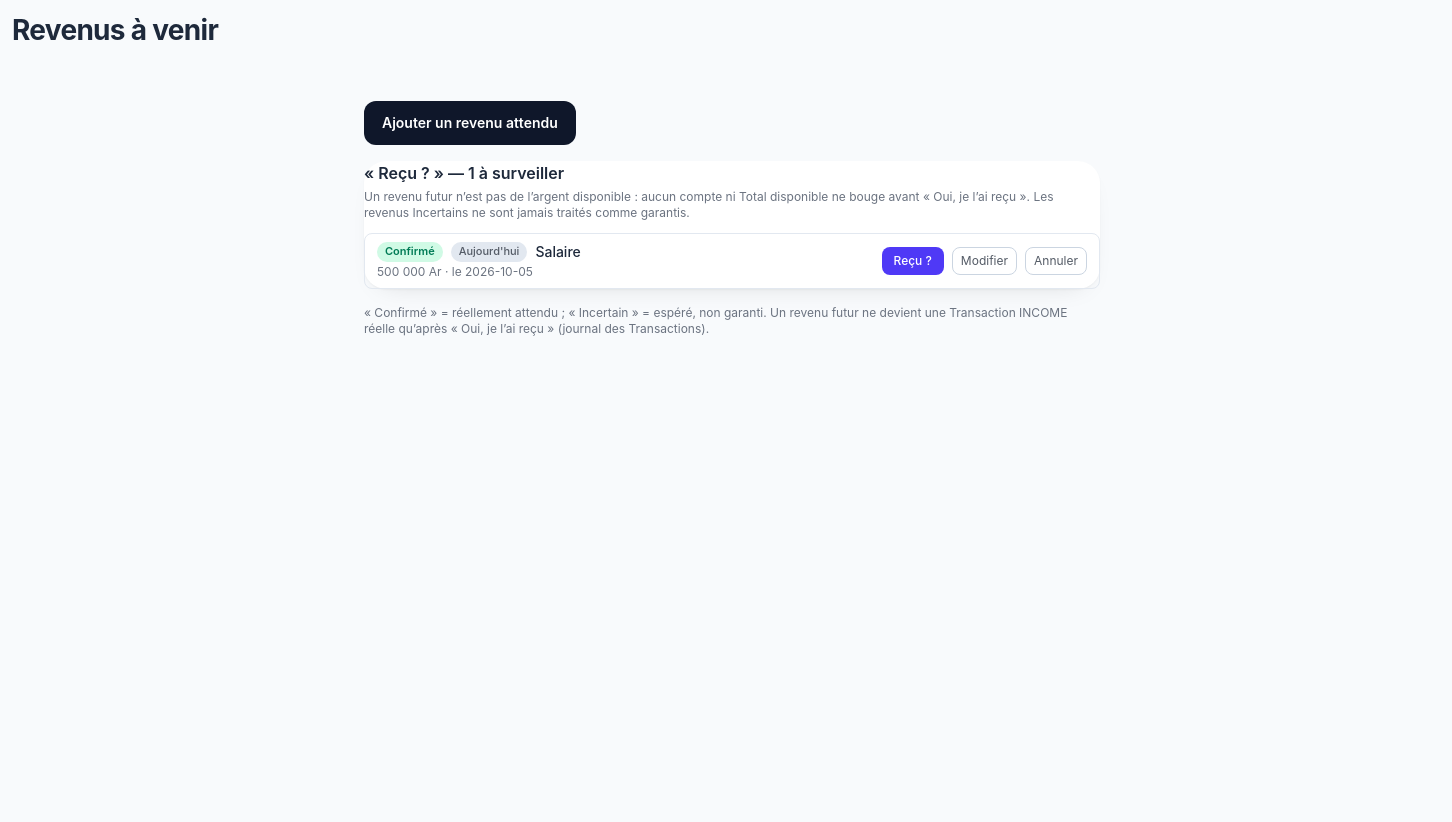
ExpectedIncomesPage — revenus à venir › « Pas encore » ferme le panneau Reçu ? sans aucune écriture
Expected: the heading "Revenus à venir" is shown, [12,13,218,47]
Click the button "Reçu ?" at coordinates (913, 261), box [882,247,944,275]
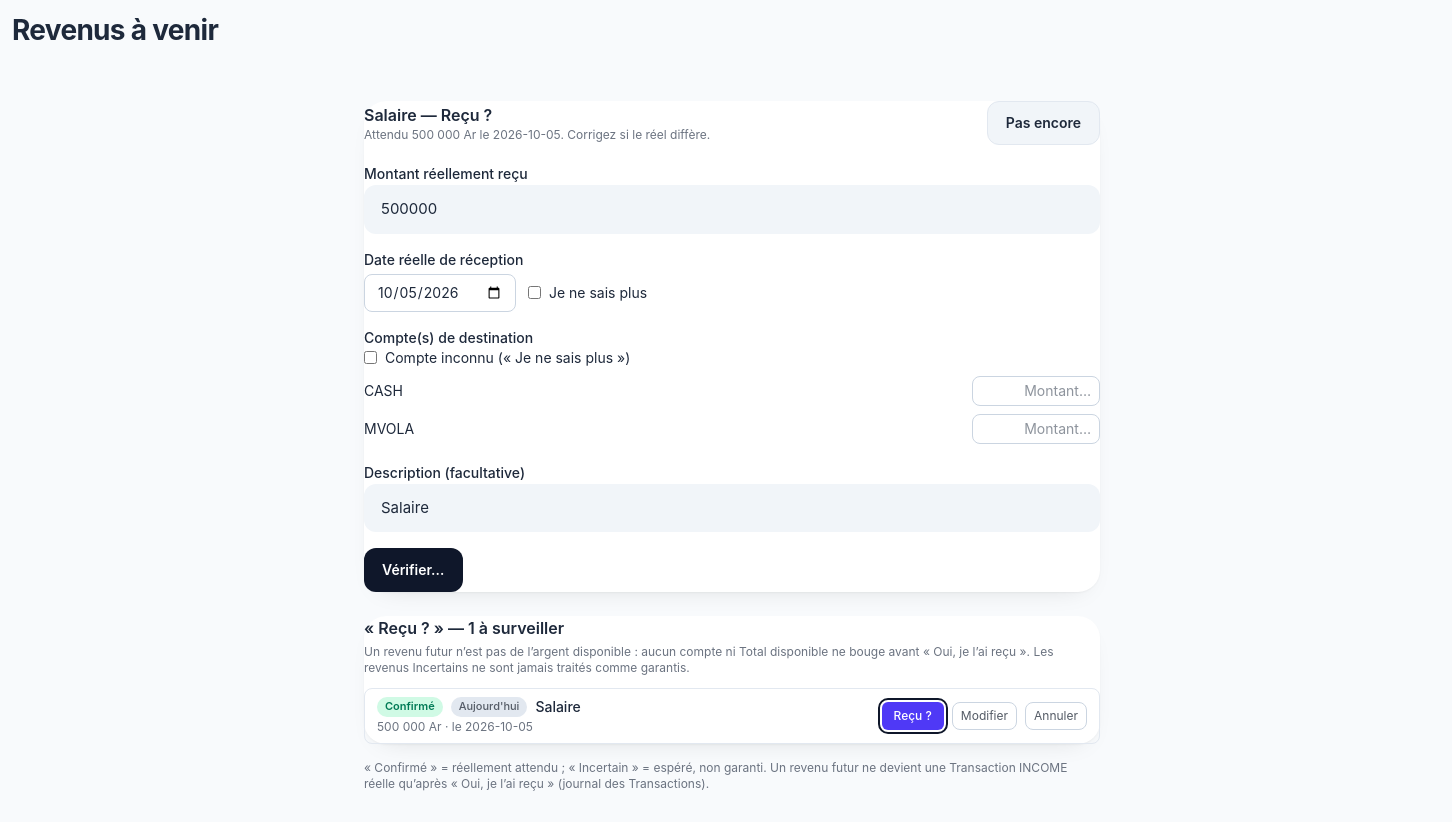
Now the text "Attendu 500 000 Ar le 2026-10-05" is shown, box [364,127,710,143]
Click the button "Pas encore" at coordinates (1043, 123), box [987,101,1100,145]
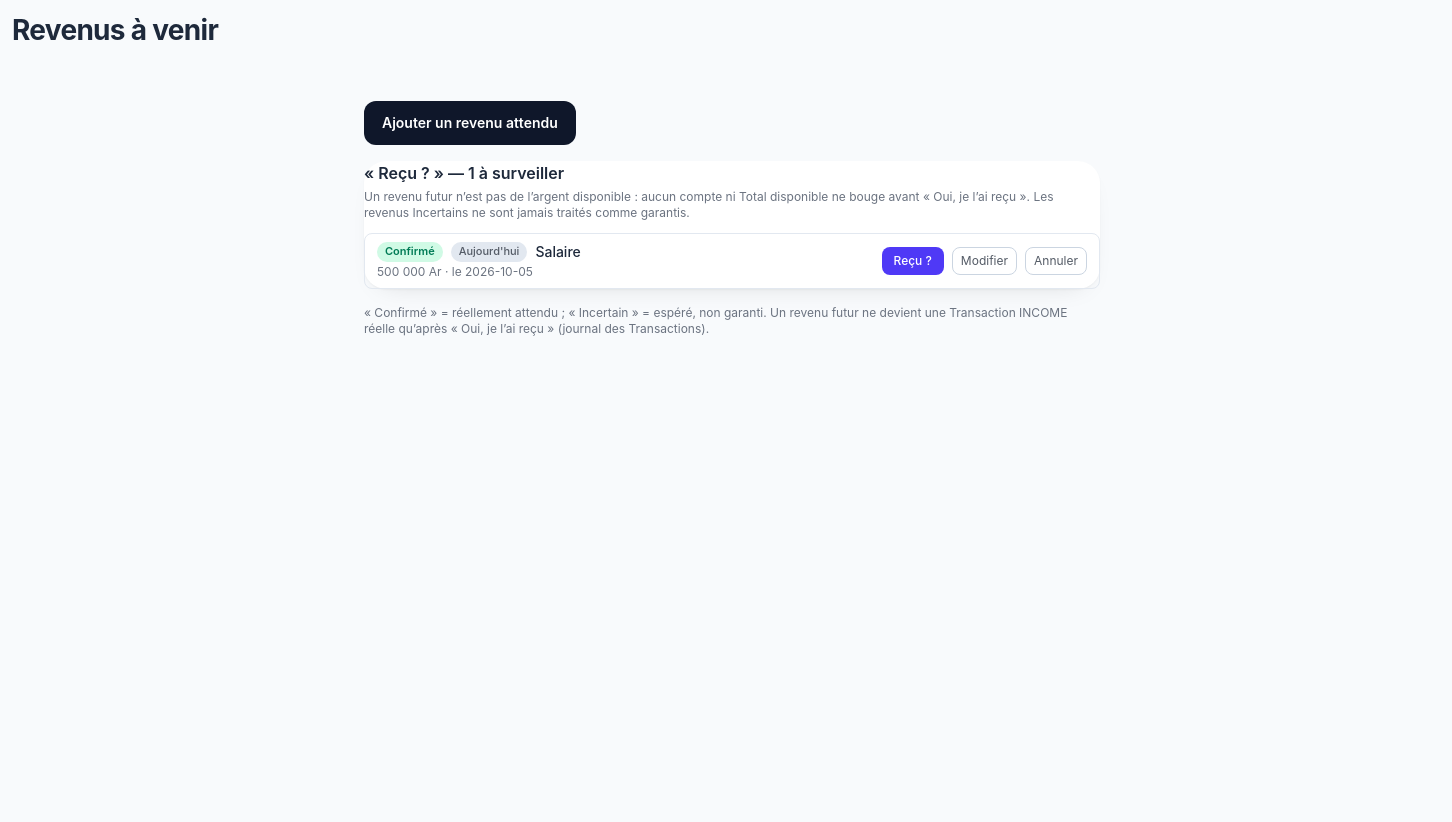
Now the text "Attendu 500 000 Ar le 2026-10-05" is gone
